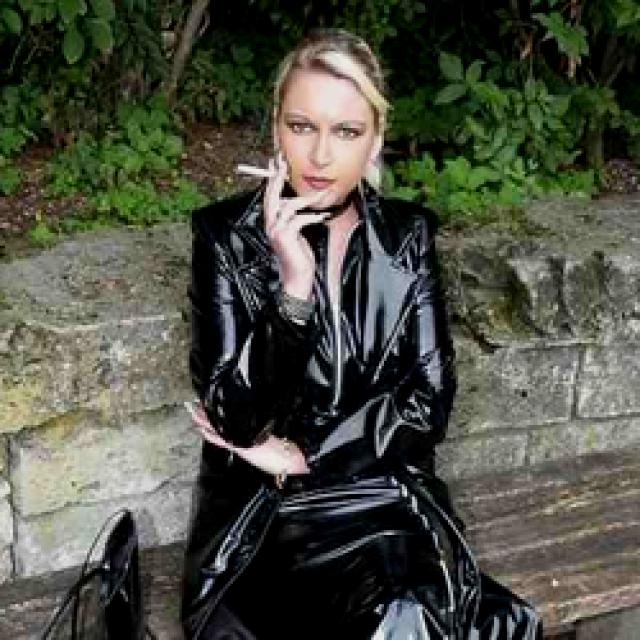Smooking: (232, 154, 279, 184)
